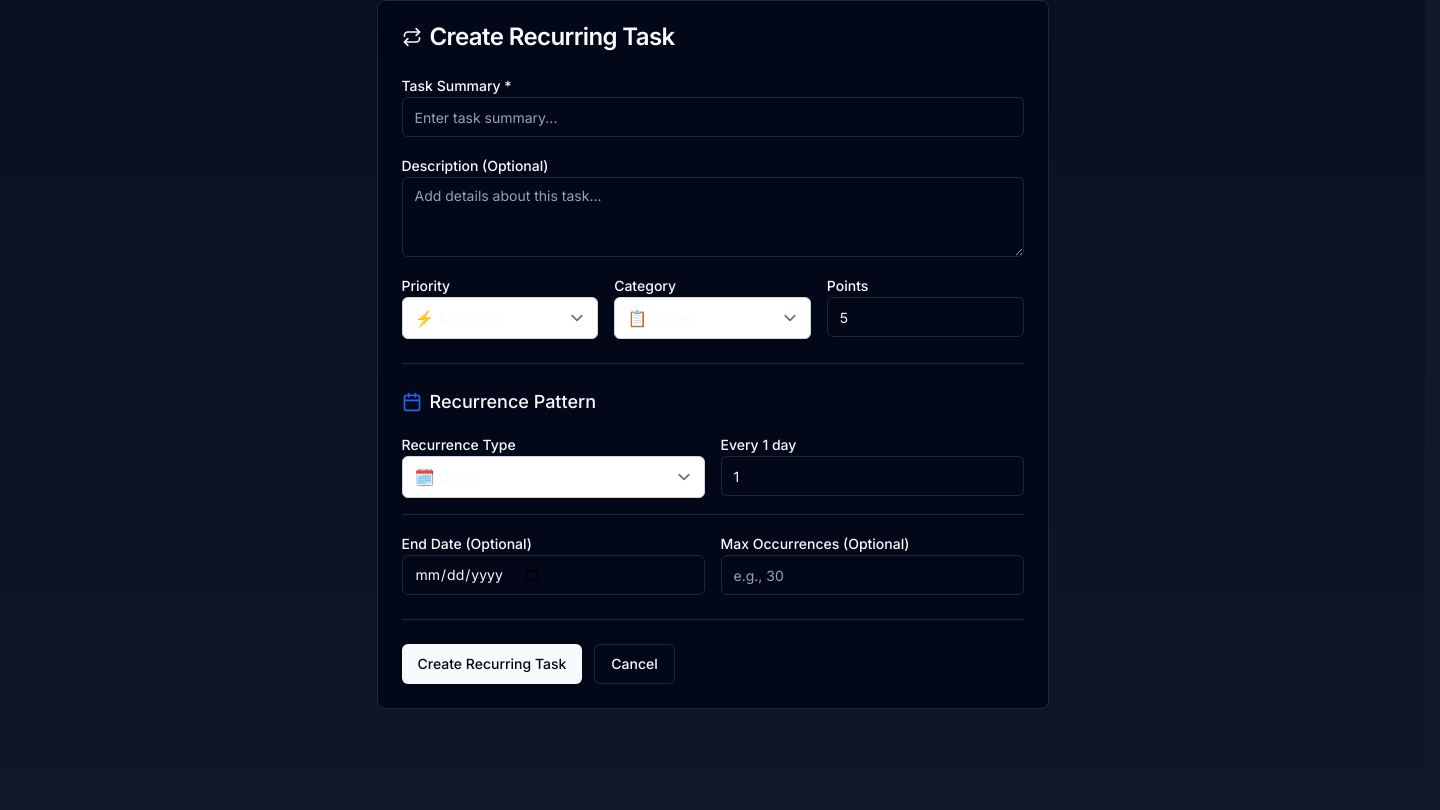
Test case: RecurringTaskForm › Accessibility › should have proper form labels and ARIA attributes
This screenshot has width=1440, height=810.
Expected: the form is shown, x1=402 y1=73 x2=1024 y2=684
// Check fieldsets for grouped controls
Select "📅 Weekly" in the dropdown labelled "Recurrence Type" at (553, 477), box x1=402 y1=456 x2=704 y2=498
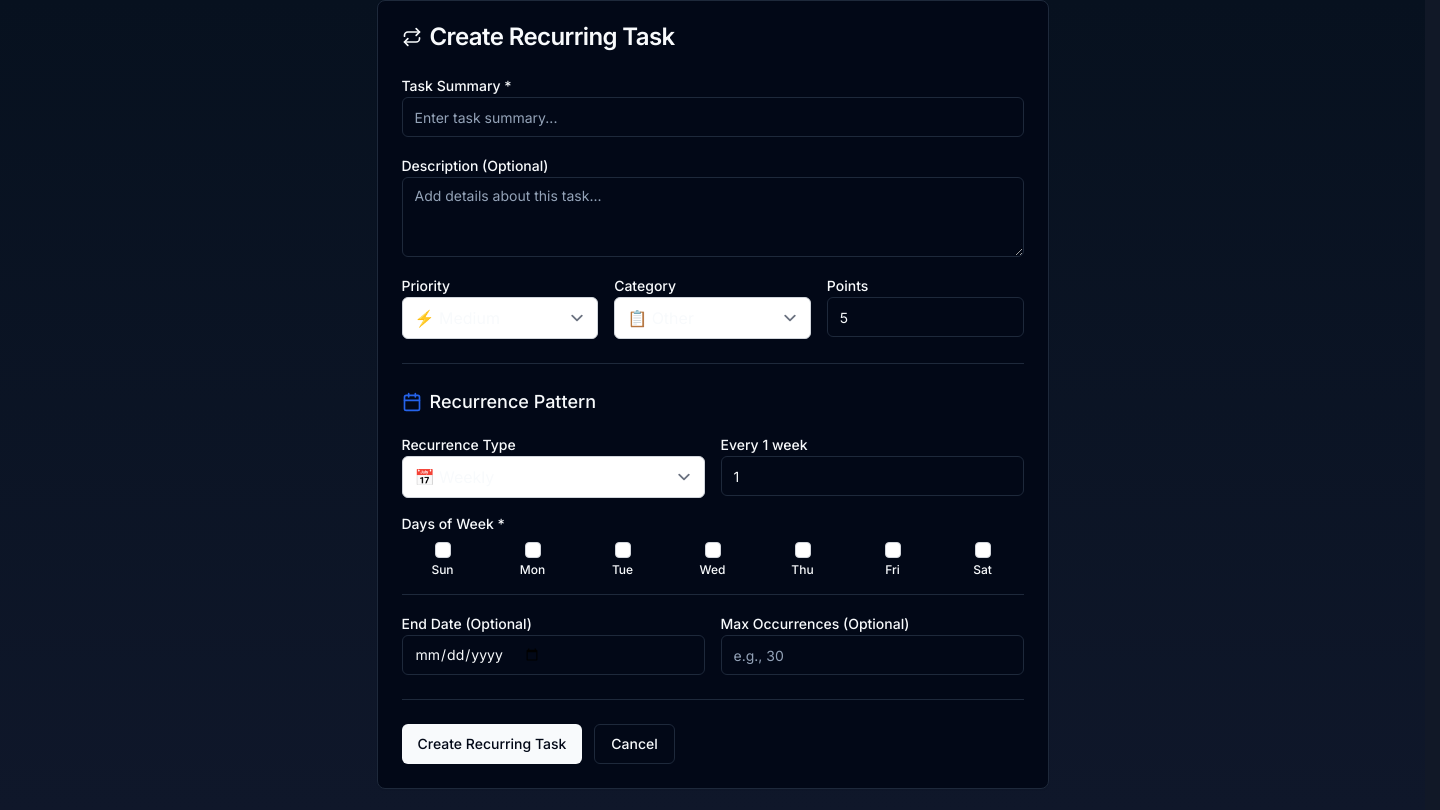
Expected: the element "Days of Week * Sun Mon Tue Wed Thu Fri Sat" is shown, x1=402 y1=514 x2=1024 y2=578
